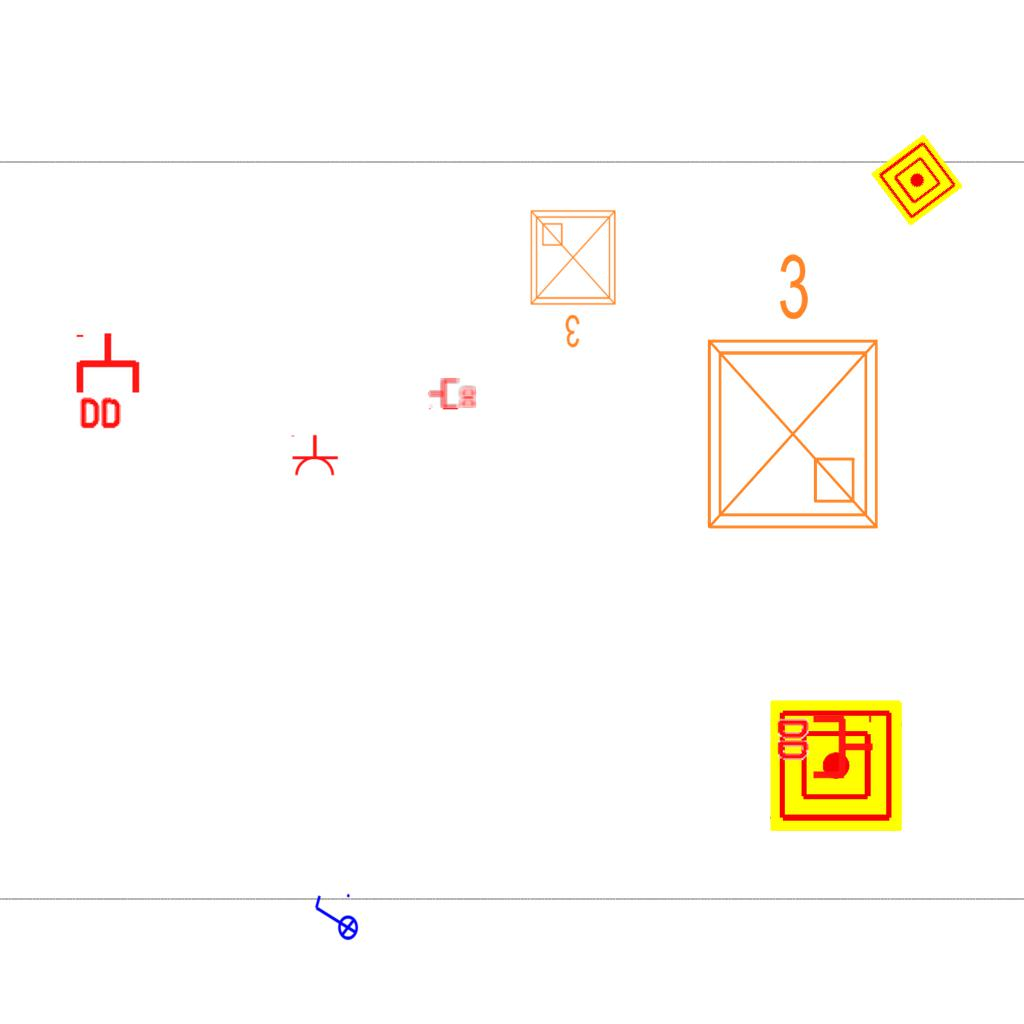Ausschalter_beleuchtet: (311, 891, 359, 947)
Datenanschluss_zweifach: (75, 330, 144, 433), (773, 714, 876, 783), (427, 376, 478, 410)
Einbaudownlights_LED_Konferenzraeume: (685, 243, 893, 543), (523, 203, 627, 353)
NAM-Nichtautomatischer_Melder: (770, 700, 902, 832), (870, 133, 964, 227)
Schukosteckdose_einfach: (289, 434, 339, 477)
